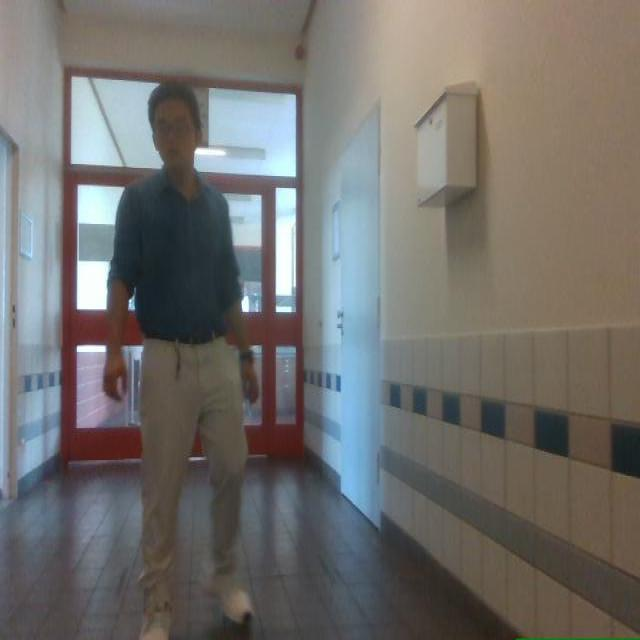humans: (103, 83, 258, 639)
